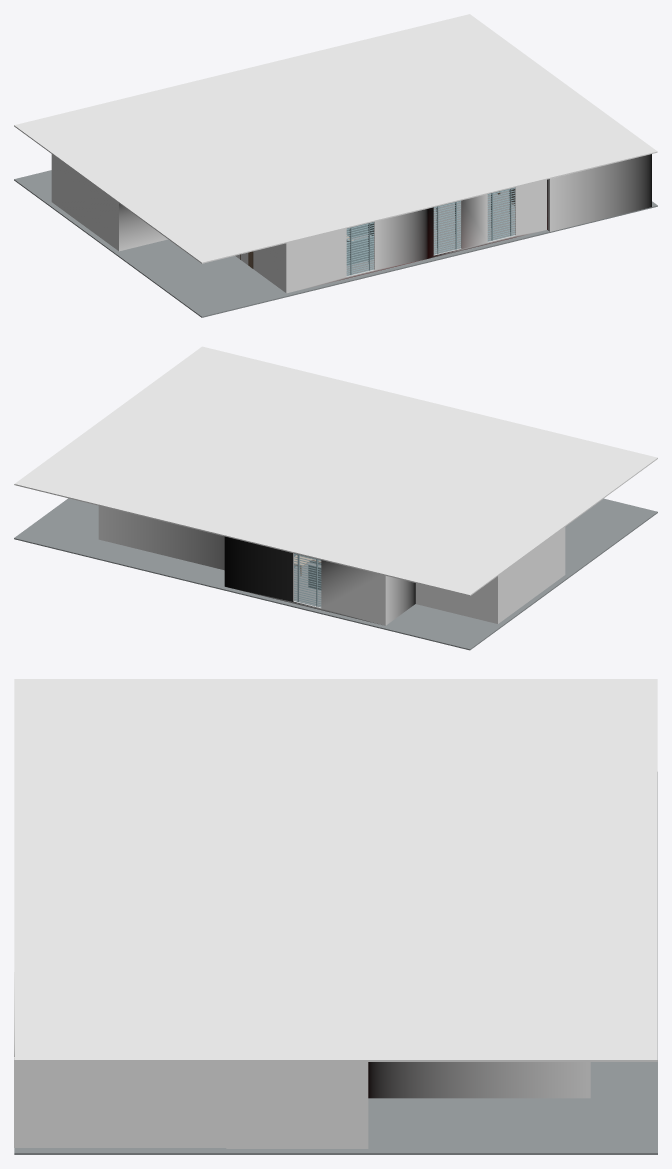
File: walls.fbx
3 views of the same model, one above another, from view 1: azimuth 30°, elevation 25°; view 2: azimuth 150°, elevation 25°; view 3: azimuth 270°, elevation 25° (orthographic). The views are drawn at different scales.
Parts seen in each view (by area): view 1: main; view 2: main; view 3: main.
Part boxes in pixels (x1,y1,x2,y2): main: (14, 14, 657, 317); main: (14, 346, 657, 650); main: (14, 679, 657, 1154).
Size of the model in its own units: 3151 by 365 by 2250.
